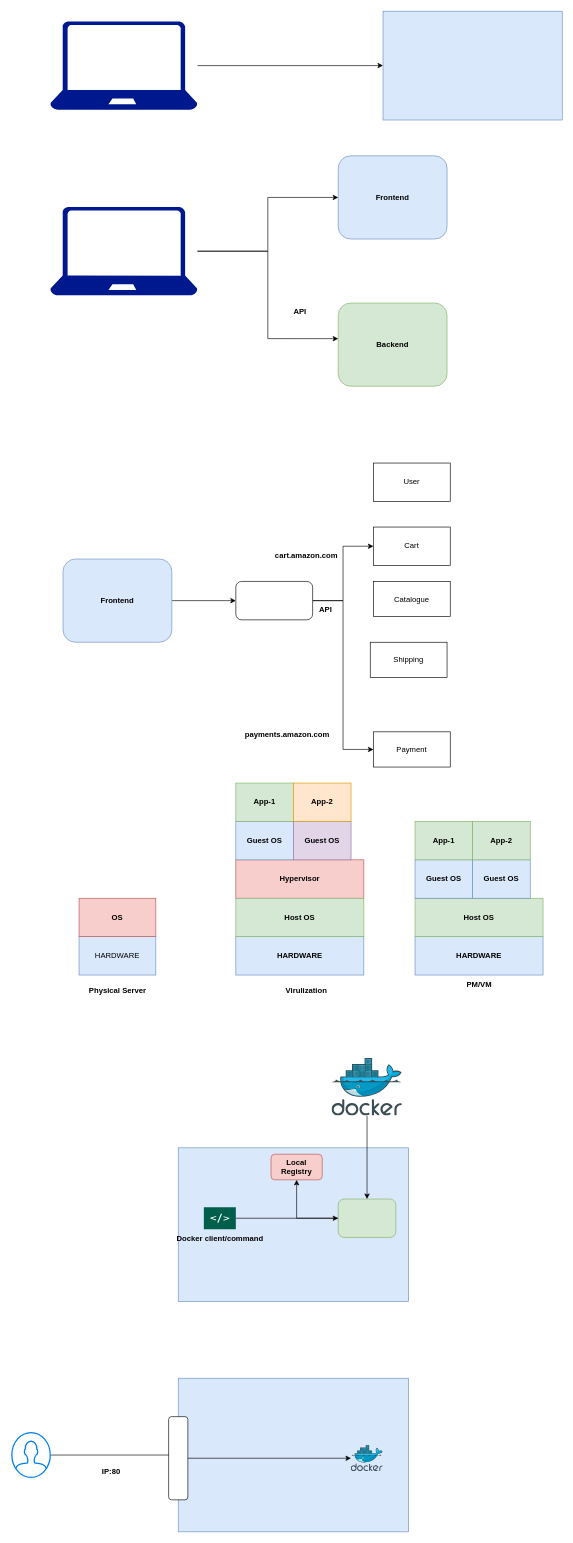
The diagram is 573 pixels wide and 1543 high, and some of its shapes have lost their labels. The box of each missing label's shape, as (x1, y1, x2, y2) in pixels:
ALB: (235, 581, 313, 620)
Docker Engine: (338, 1198, 396, 1237)
Frontend+Backend: (382, 11, 562, 120)
